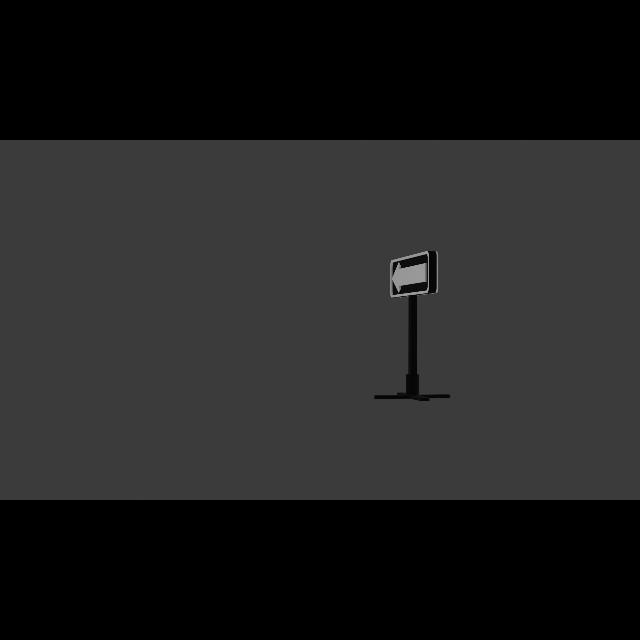sign_oneway_left: (389, 250, 441, 299)
